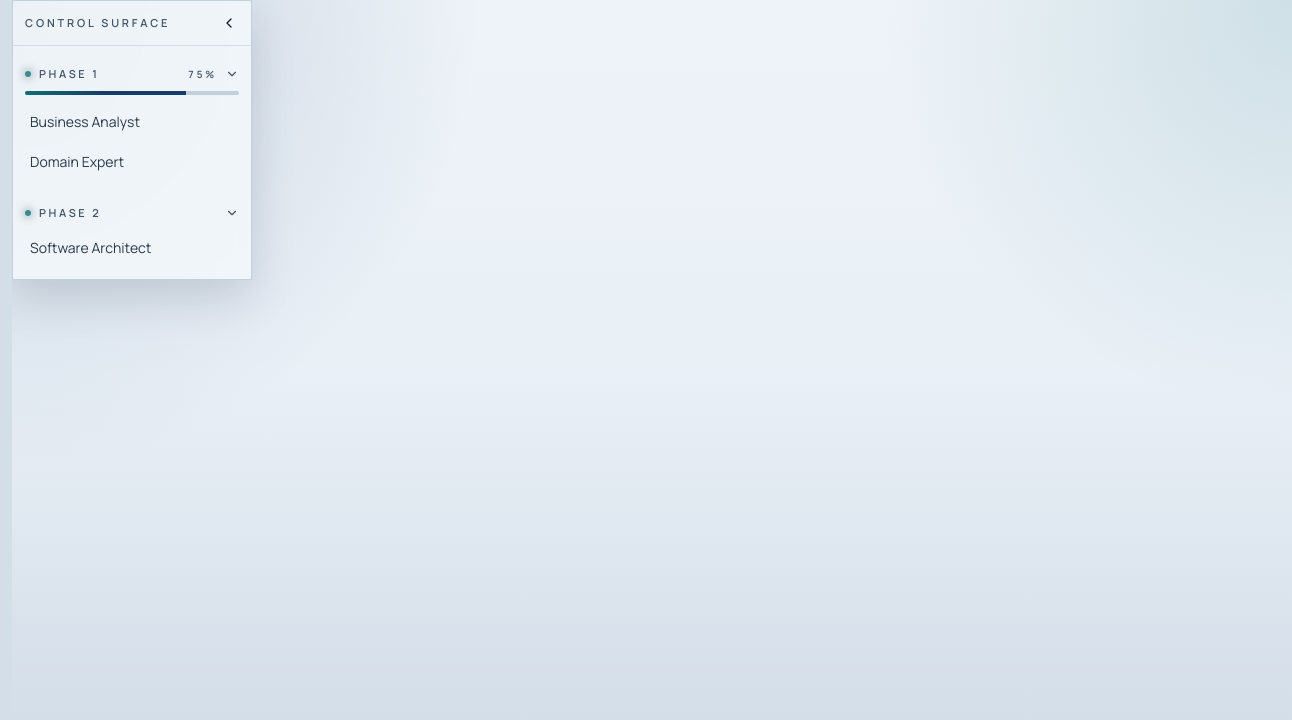
Test: SidePanel › sections can be collapsed/expanded
Click the button "Phase 1 75%" at (132, 74), box [13,58,251,90]
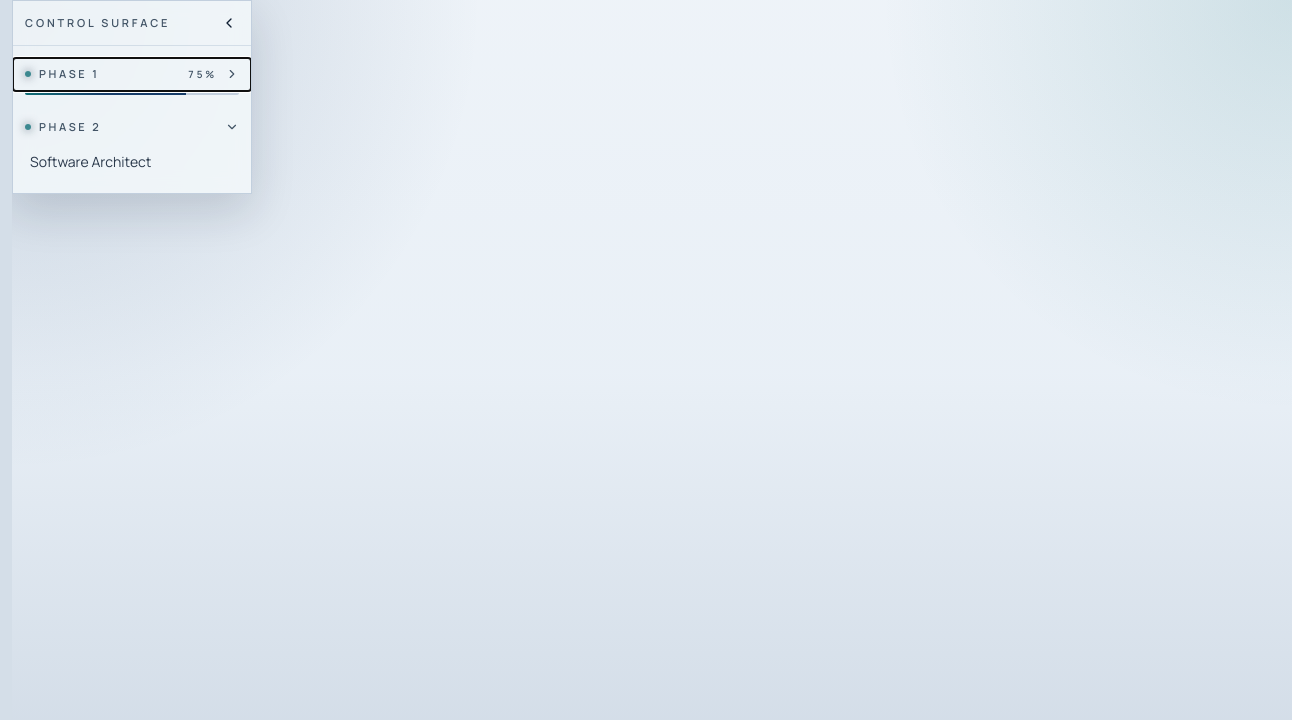
Expected: the button "Phase 1 75%" is collapsed, [13,58,251,90]
Expected: the button "Business Analyst" is gone
